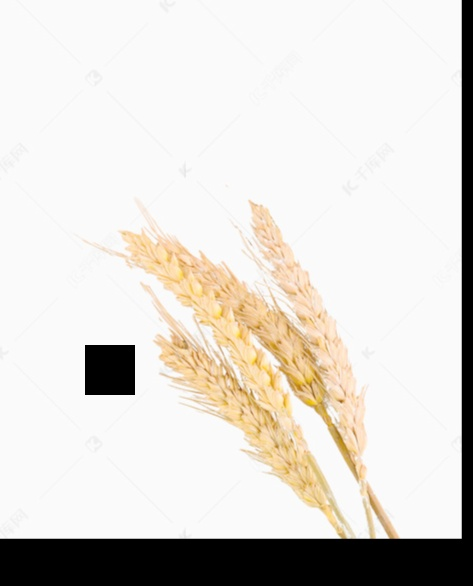wheat: (161, 330, 334, 528), (128, 224, 319, 401), (257, 193, 367, 452)
